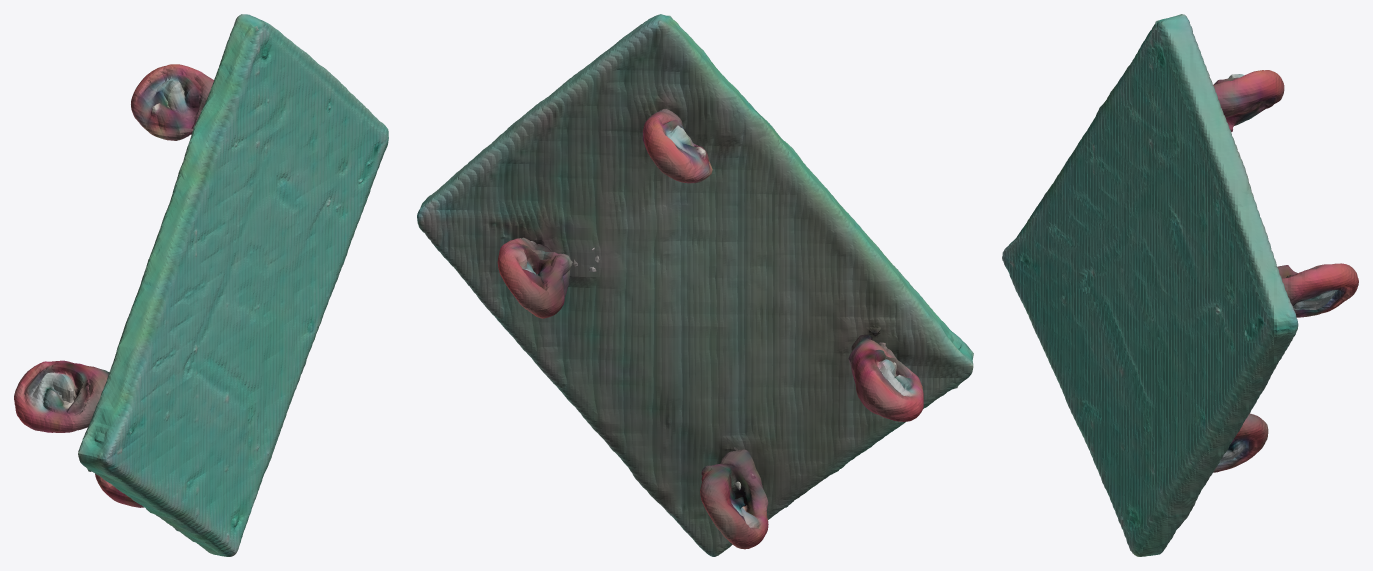
3 views of the same model, side by side, from view 1: azimuth 30°, elevation 25°; view 2: azimuth 150°, elevation 25°; view 3: azimuth 270°, elevation 25° (orthographic). The views are drawn at different scales.
Parts seen in each view (by area): view 1: world; view 2: world; view 3: world.
Part boxes in pixels (x1,y1,x2,y2): world: (14, 14, 388, 556); world: (417, 14, 973, 556); world: (1002, 14, 1358, 556).
Size of the model in its own units: 1.04 by 1.21 by 0.6975.
